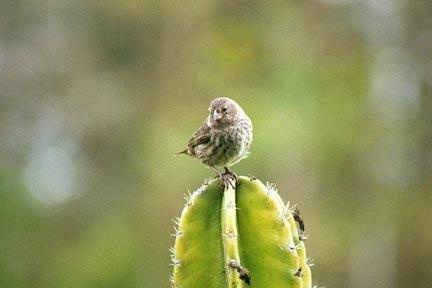bird: (172, 97, 255, 192)
